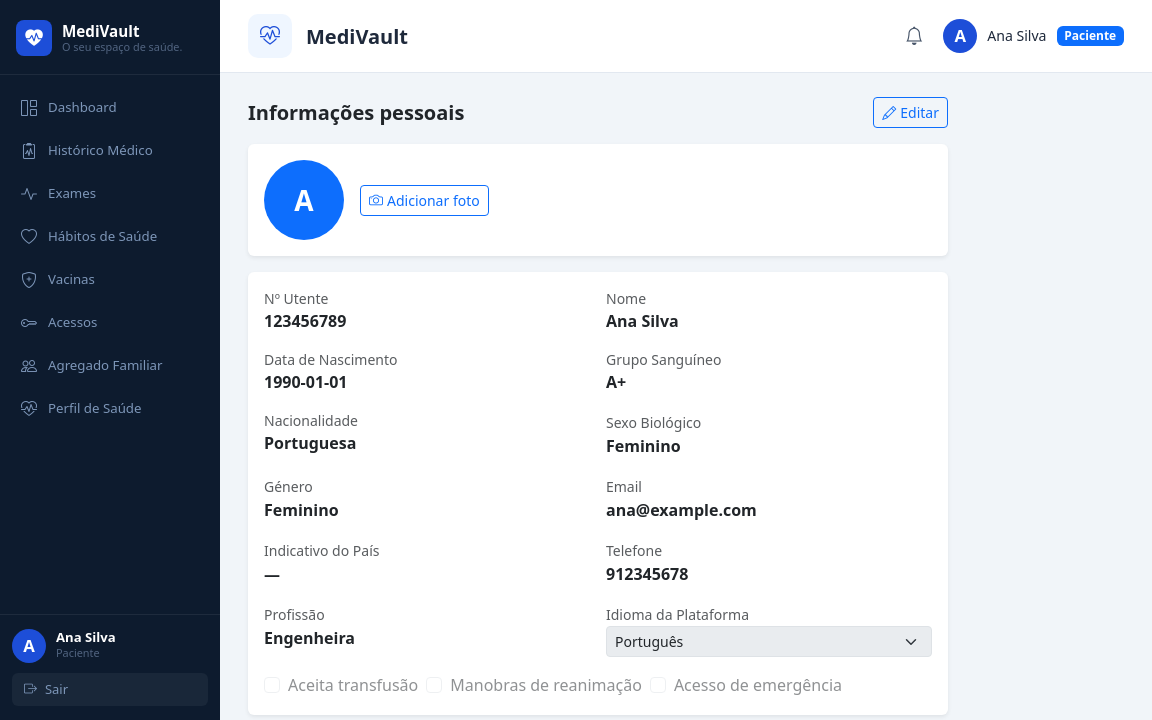
ProfilePage - critical field confirmation popup › shows a warning popup instead of applying the change immediately when toggling "Aceita transfusão"
The image size is (1152, 720).
Click the button "Editar": coordinates (911, 112) [873, 97, 948, 128]
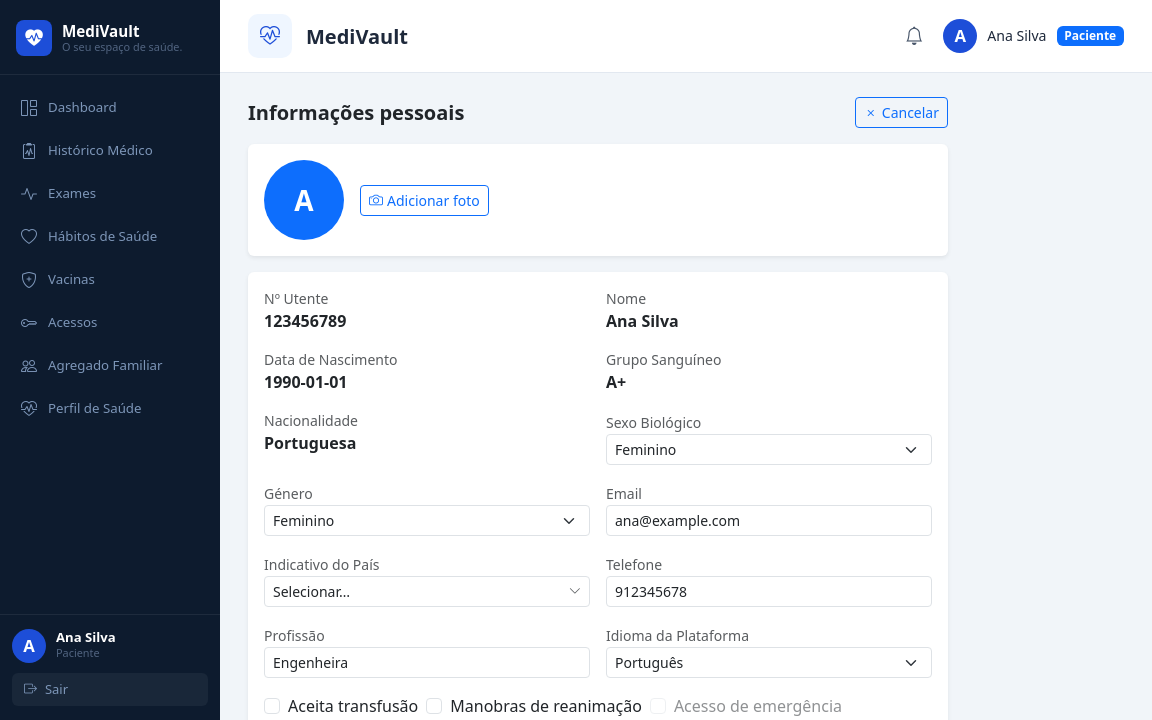
Click the checkbox labelled "Aceita transfusão": coordinates (272, 706) [264, 698, 280, 714]
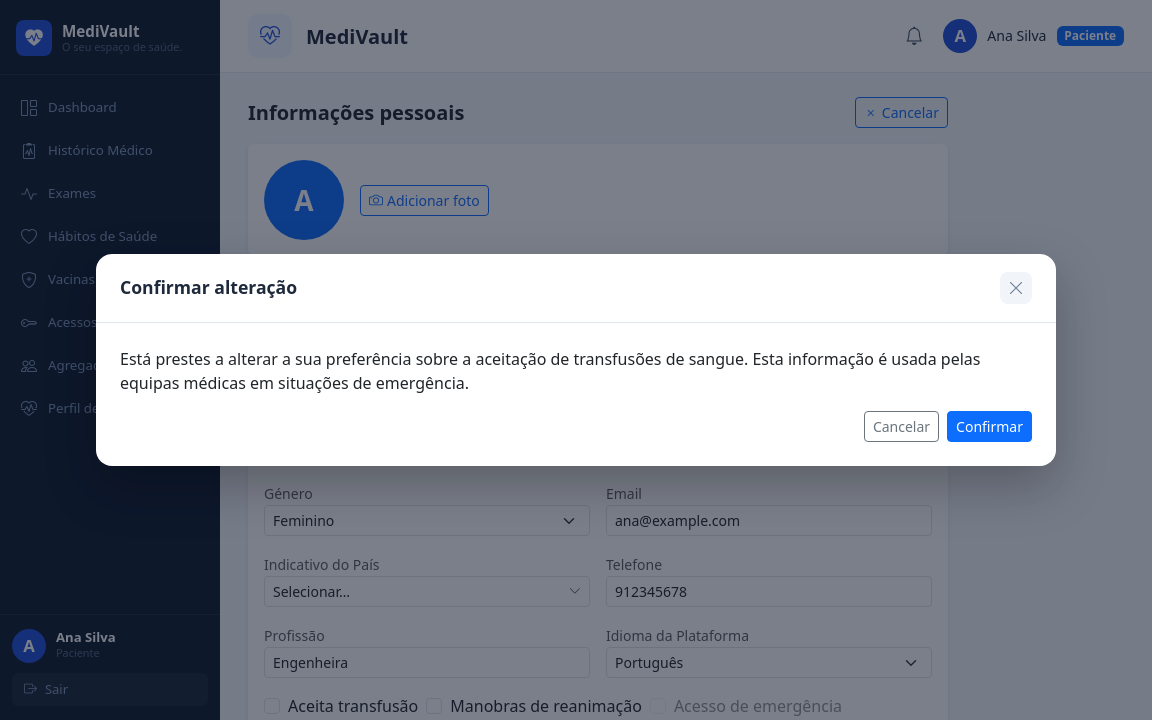
Now the heading "Confirmar alteração" is shown, box [120, 277, 297, 298]
Now the text "transfusões de sangue" is shown, box [120, 348, 980, 394]
